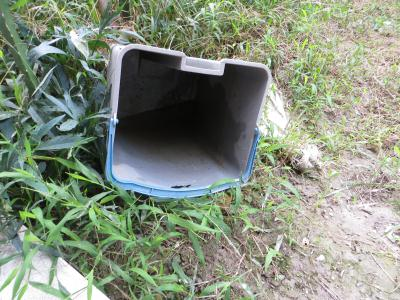bucket: (99, 38, 272, 206)
